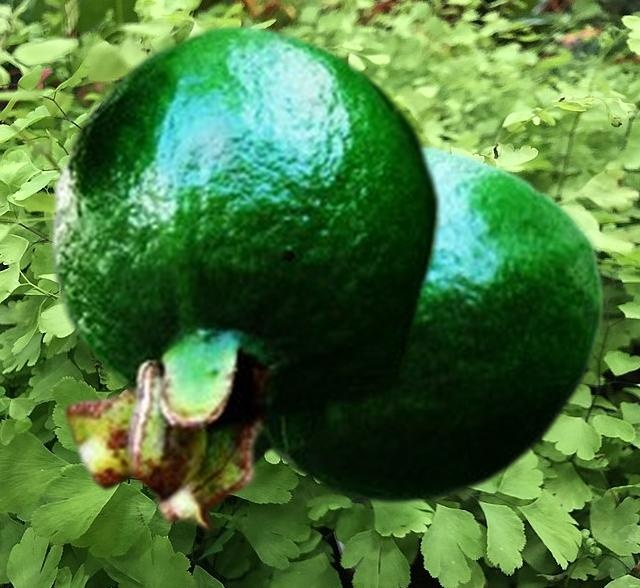guava: (63, 143, 605, 533), (49, 21, 442, 512)
